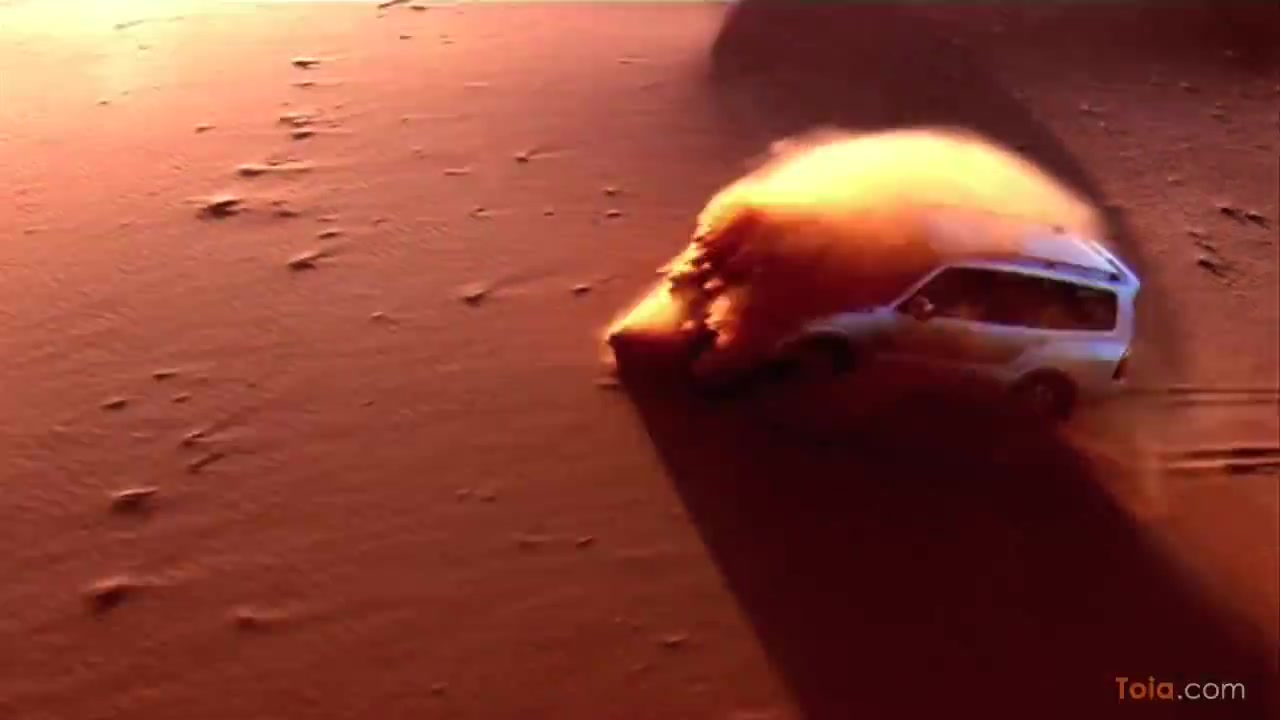car: (761, 221, 1145, 430)
